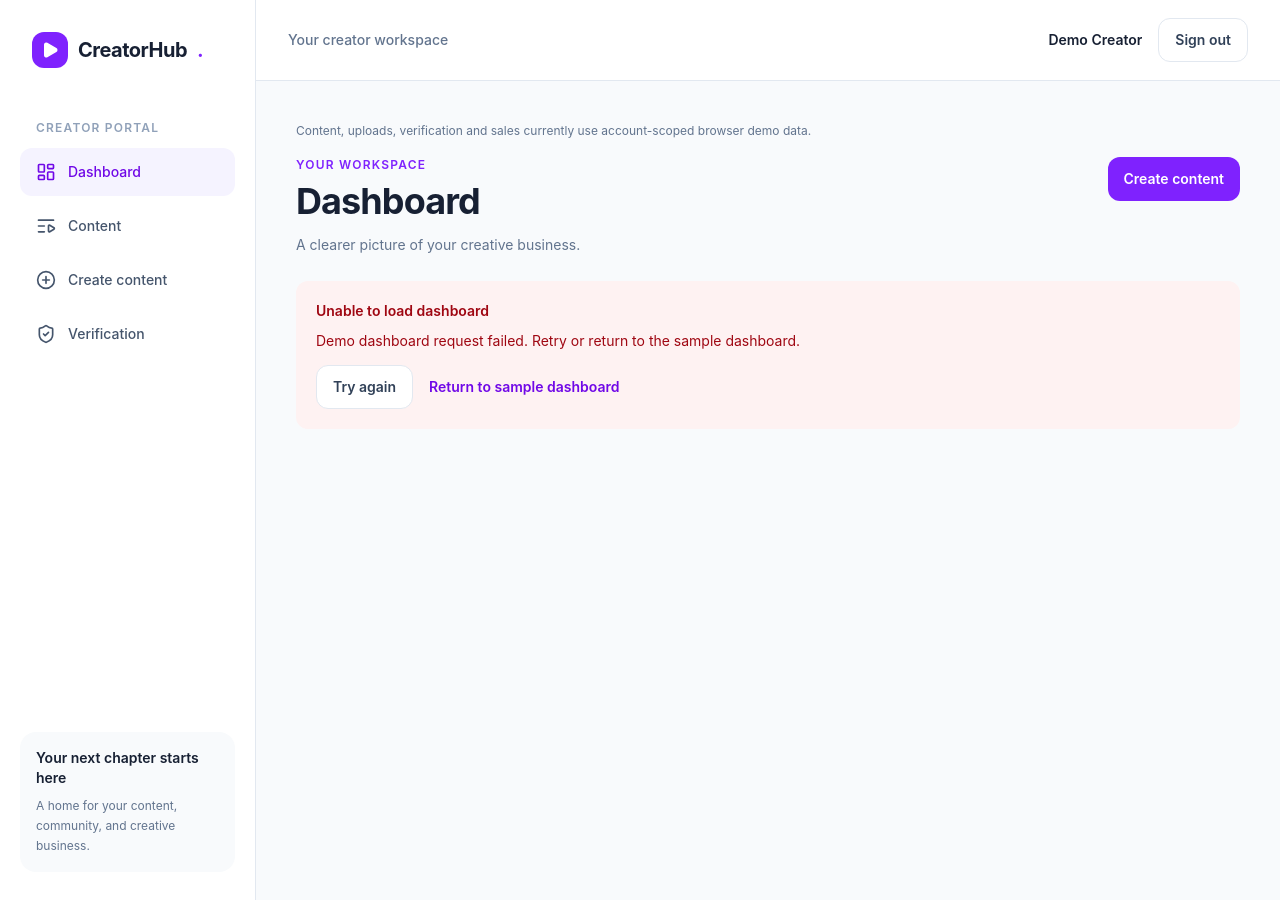
Test: dashboard overview › recovers from the simulated error using the sample link
Expected: the message shows "request failed", [316,332,800,349]
Click the link "Return to sample dashboard" at (524, 386), box [429,378,620,395]
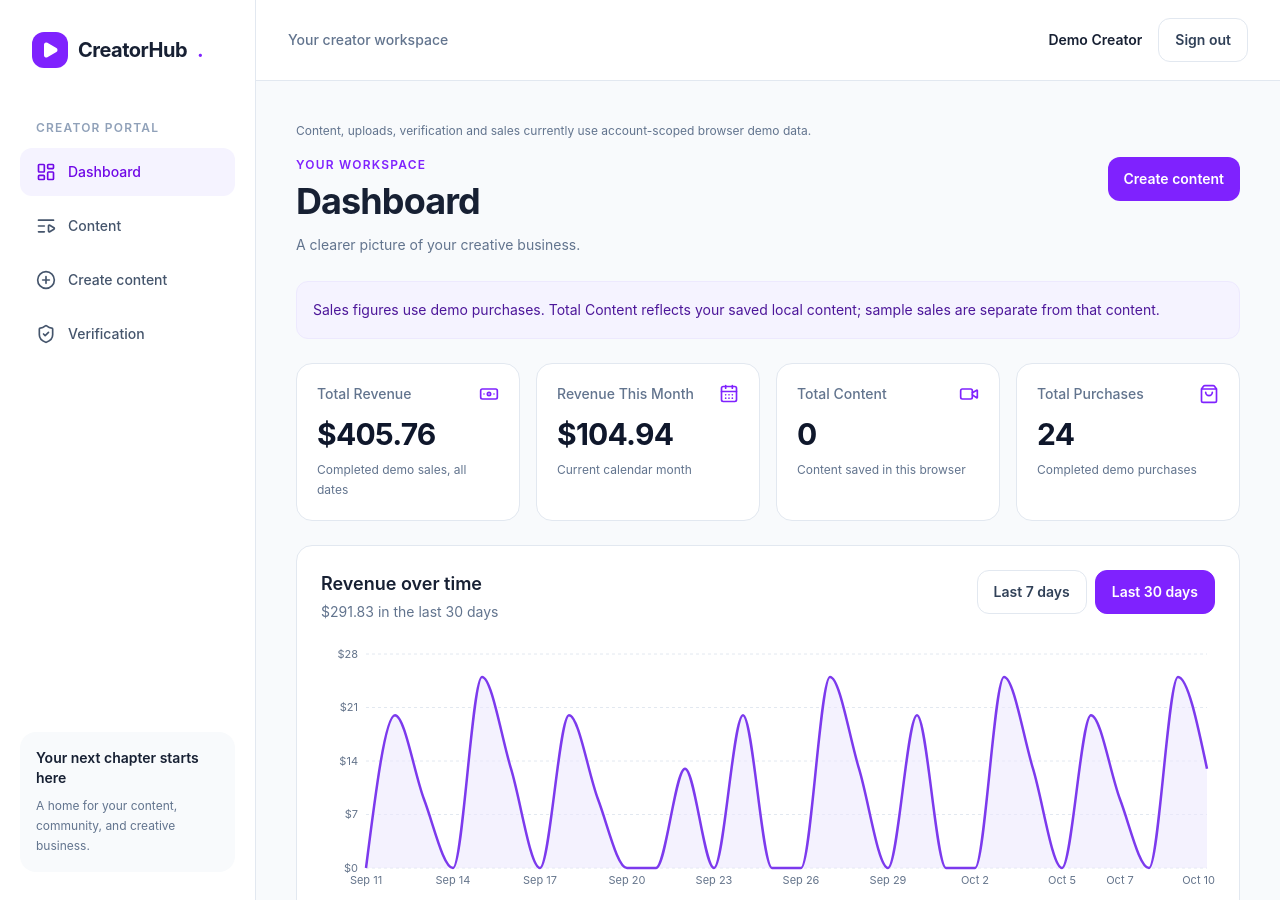
Expected: the element named "Overview metrics" is shown, [296,363,1240,521]
